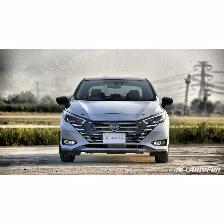NON-EV: (56, 78, 174, 165)
